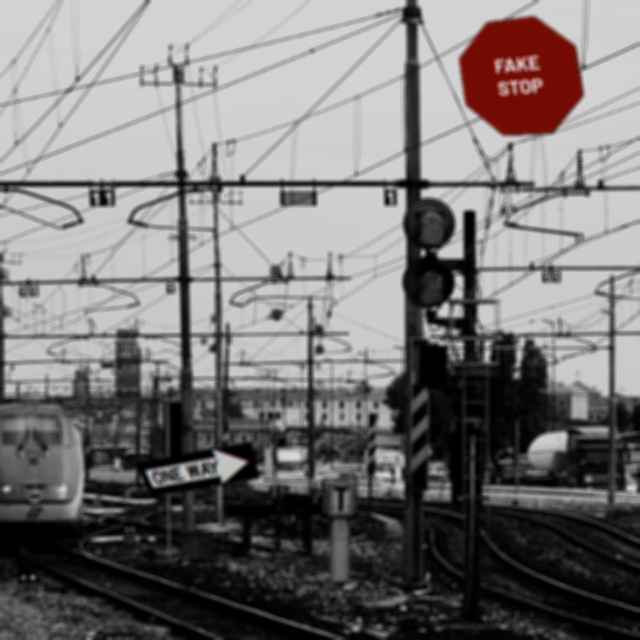FAKE_STOP: (458, 15, 584, 136)
ONE_WAY_ right: (134, 440, 260, 497)
